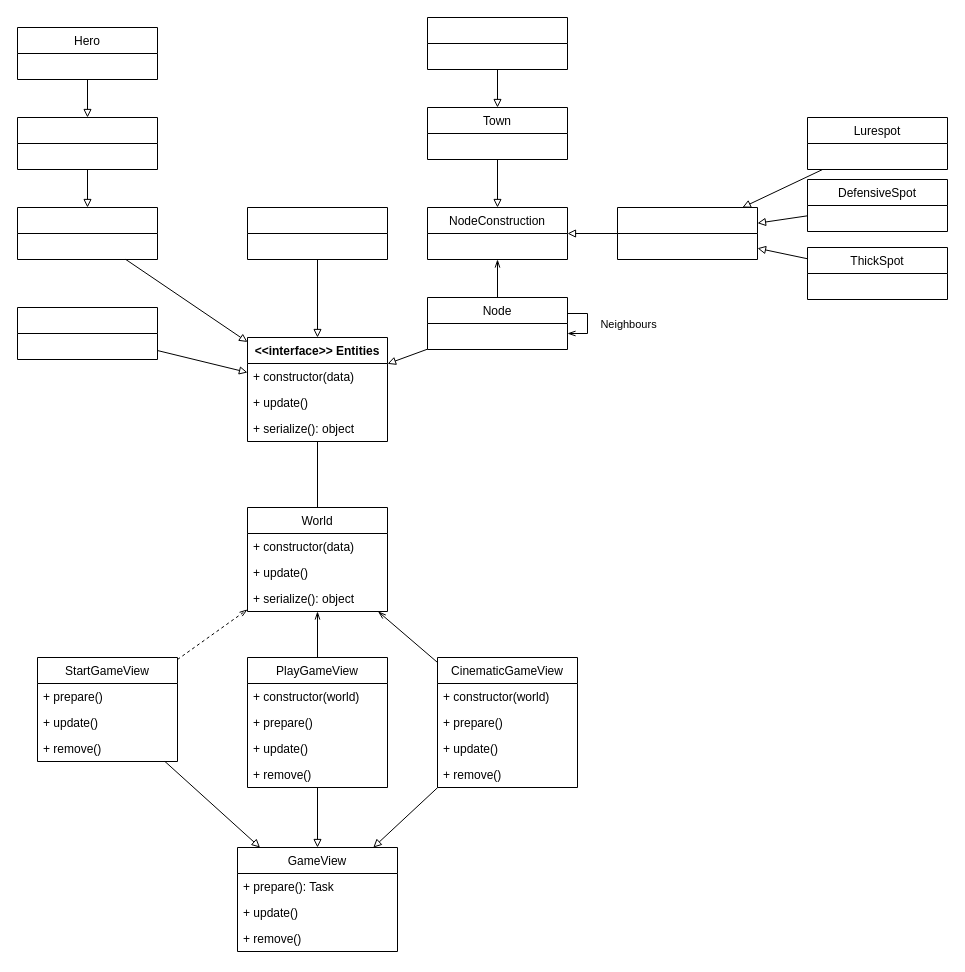
The diagram is 965 pixels wide and 972 high, and some of its shapes have lost their labels. The centre of each missing label's shape, as x and y in pixels:
City: (x=497, y=43)
Human: (x=87, y=233)
Player: (x=87, y=333)
PlayerControlled: (x=687, y=233)
Pod: (x=317, y=233)
Warrior: (x=87, y=143)
